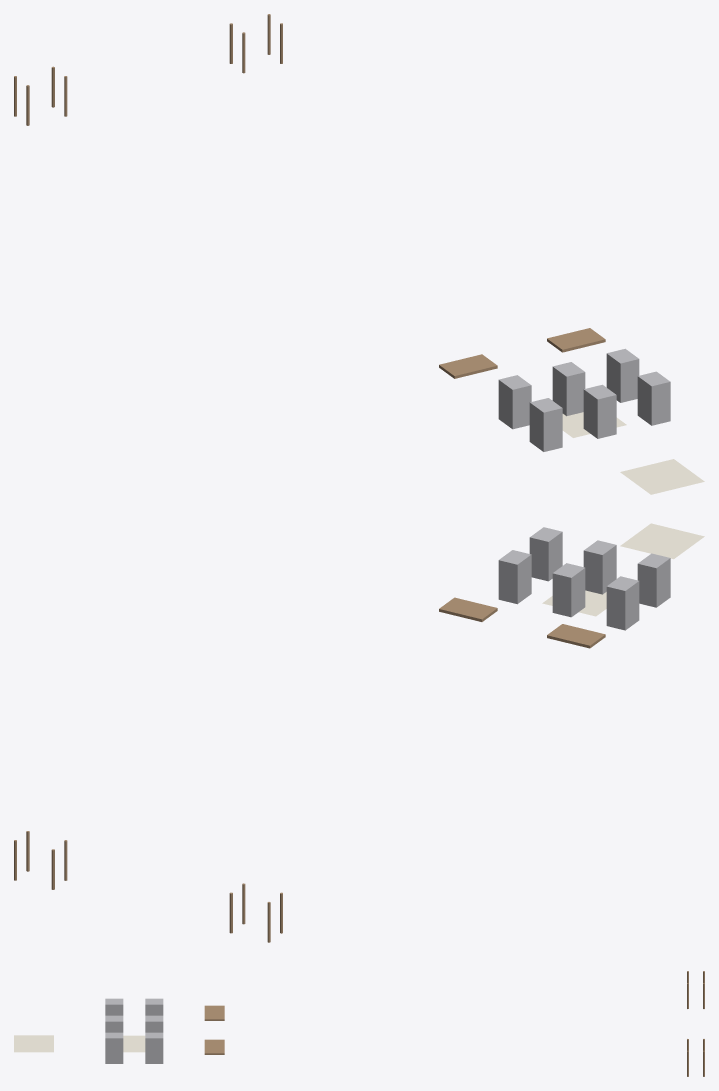
File: ENV_Hills.glb
The picture shows the model from 3 angles, top to bottom: view 1: azimuth 30°, elevation 25°; view 2: azimuth 150°, elevation 25°; view 3: azimuth 270°, elevation 25°; orthographic projection. The views are drawn at different scales.
Visible parts, largest first — view 1: ENV_Hills_Path, ENV_Hills_Cabinet_2_0, ENV_Hills_Cabinet_0_0, ENV_Hills_Cabinet_1_0, ENV_Hills_Cabinet_0_1, ENV_Hills_Cabinet_1_1, ENV_Hills_Cabinet_2_1, ENV_Hills_Desk_0, ENV_Hills_Desk_1; view 2: ENV_Hills_Path, ENV_Hills_Cabinet_0_1, ENV_Hills_Cabinet_1_1, ENV_Hills_Cabinet_2_1, ENV_Hills_Cabinet_0_0, ENV_Hills_Cabinet_2_0, ENV_Hills_Cabinet_1_0, ENV_Hills_Desk_0, ENV_Hills_Desk_1; view 3: ENV_Hills_Path, ENV_Hills_Cabinet_2_0, ENV_Hills_Cabinet_2_1, ENV_Hills_Ground, ENV_Hills_Cabinet_0_0, ENV_Hills_Cabinet_0_1, ENV_Hills_Cabinet_1_0, ENV_Hills_Cabinet_1_1, ENV_Hills_Desk_0, ENV_Hills_Desk_1.
Part boxes in pixels (x1,y1,x2,y2): ENV_Hills_Path: (620,459,704,494); ENV_Hills_Cabinet_2_0: (637,371,670,425); ENV_Hills_Cabinet_0_0: (529,398,562,451); ENV_Hills_Cabinet_1_0: (583,384,616,438); ENV_Hills_Cabinet_0_1: (498,375,531,429); ENV_Hills_Cabinet_1_1: (552,362,585,416); ENV_Hills_Cabinet_2_1: (606,348,639,402); ENV_Hills_Desk_0: (439,354,497,378); ENV_Hills_Desk_1: (547,328,605,352); ENV_Hills_Path: (620,523,704,559); ENV_Hills_Cabinet_0_1: (606,576,639,630); ENV_Hills_Cabinet_1_1: (552,563,585,617); ENV_Hills_Cabinet_2_1: (498,550,531,604); ENV_Hills_Cabinet_0_0: (637,553,670,607); ENV_Hills_Cabinet_2_0: (529,527,562,581); ENV_Hills_Cabinet_1_0: (583,540,616,594); ENV_Hills_Desk_0: (547,624,605,648); ENV_Hills_Desk_1: (439,597,497,621); ENV_Hills_Path: (14,1035,53,1052); ENV_Hills_Cabinet_2_0: (105,1032,123,1063); ENV_Hills_Cabinet_2_1: (145,1032,163,1063); ENV_Hills_Ground: (123,1035,145,1052); ENV_Hills_Cabinet_0_0: (105,998,123,1015); ENV_Hills_Cabinet_0_1: (145,998,163,1015); ENV_Hills_Cabinet_1_0: (105,1015,123,1032); ENV_Hills_Cabinet_1_1: (145,1015,163,1032); ENV_Hills_Desk_0: (204,1005,224,1020); ENV_Hills_Desk_1: (204,1039,224,1054).
Size of the model in its own units: 9.5 by 1.8 by 34.45.
